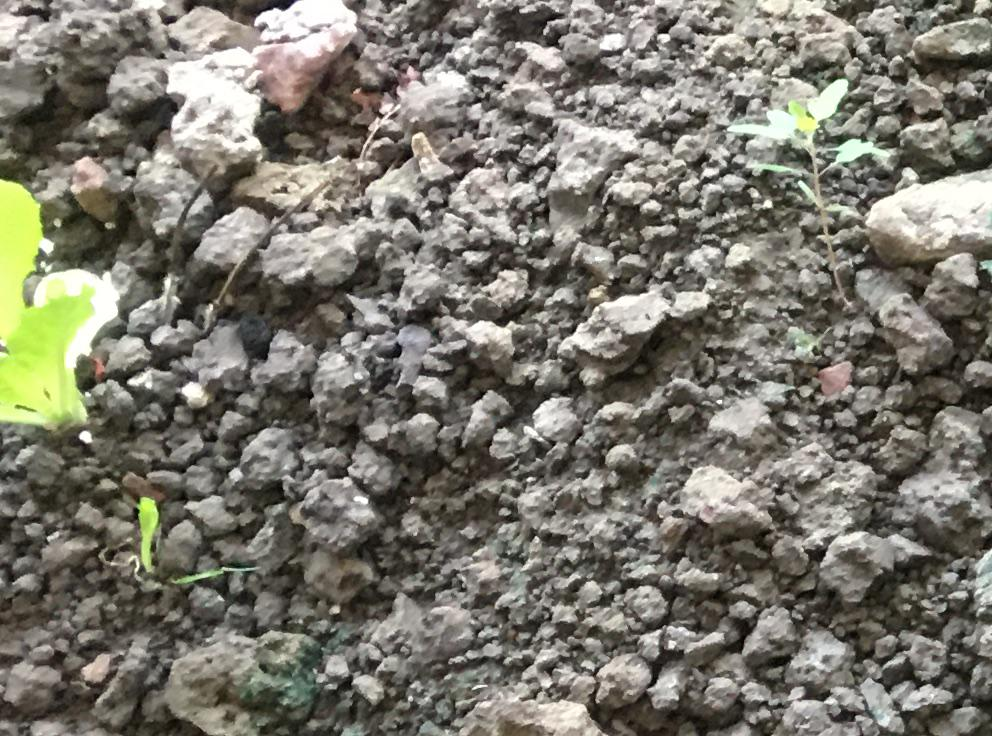block: (242, 1, 363, 109), (162, 50, 272, 168), (854, 168, 992, 255)
